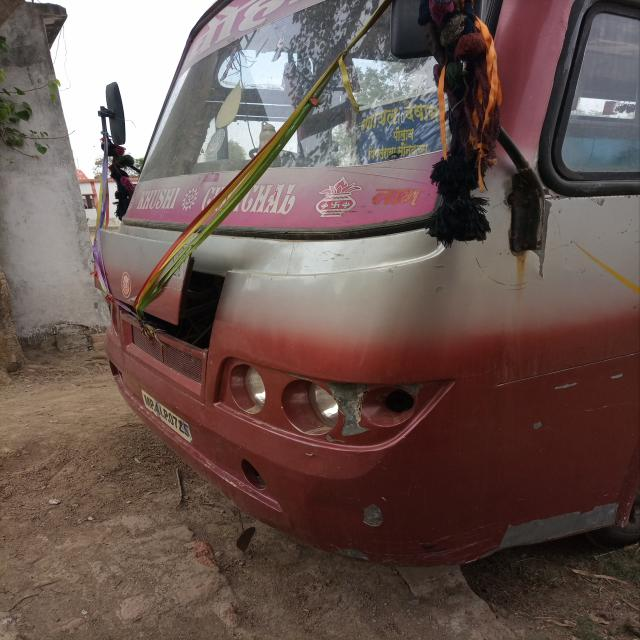Bus: (89, 1, 640, 555)
